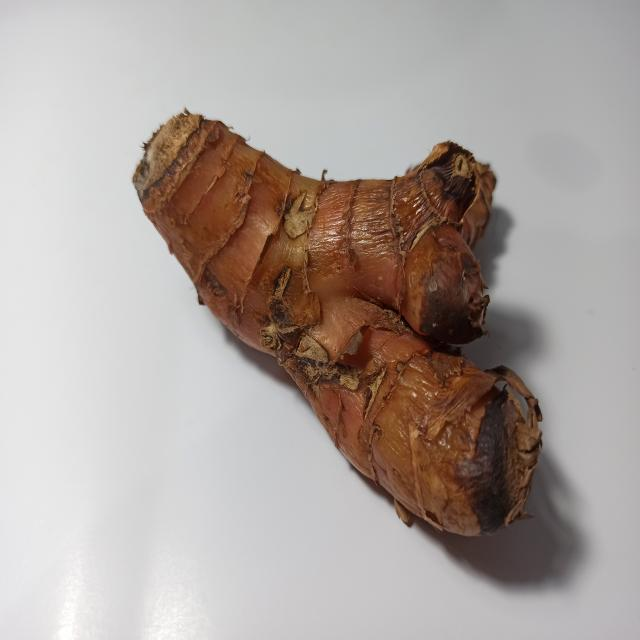ginger: (148, 92, 554, 520)
